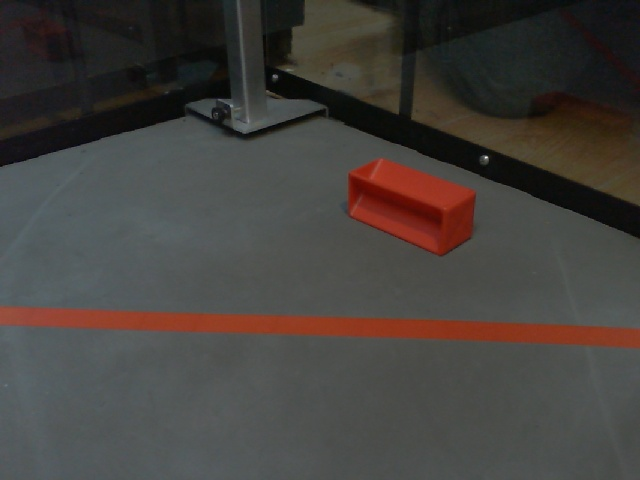RedSample: (343, 156, 479, 252)
